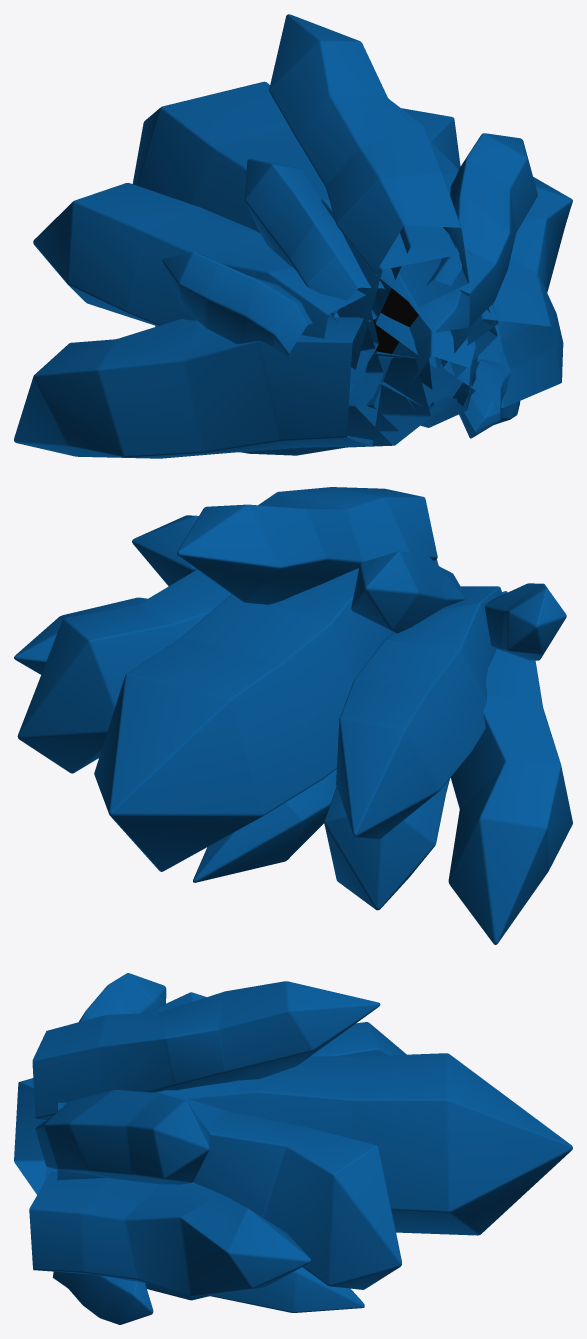
The model's file is Town Teleporter.FBX.
3 renders of one model, top to bottom at view 1: azimuth 30°, elevation 25°; view 2: azimuth 150°, elevation 25°; view 3: azimuth 270°, elevation 25°, orthographic. The views are drawn at different scales.
Parts seen in each view (by area): view 1: Cylinder, Circle; view 2: Cylinder; view 3: Cylinder.
Part boxes in pixels (box(x1,y1,x2,y2)): Cylinder: box(14, 14, 572, 458); Circle: box(373, 288, 418, 353); Cylinder: box(14, 487, 572, 944); Cylinder: box(14, 973, 572, 1324).
Bounding box in the file's own units: 256 × 170 × 261.
2 materials, 1 textured.
